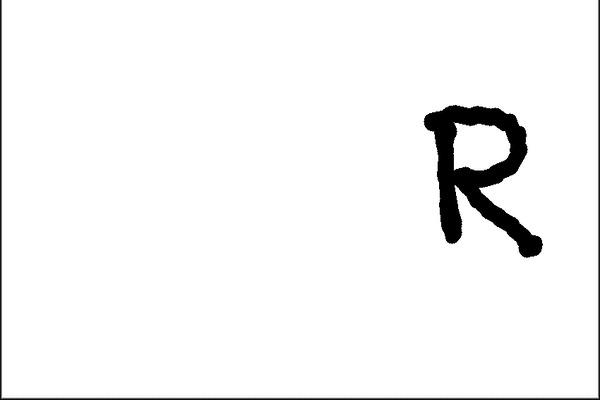R: (418, 96, 566, 262)
